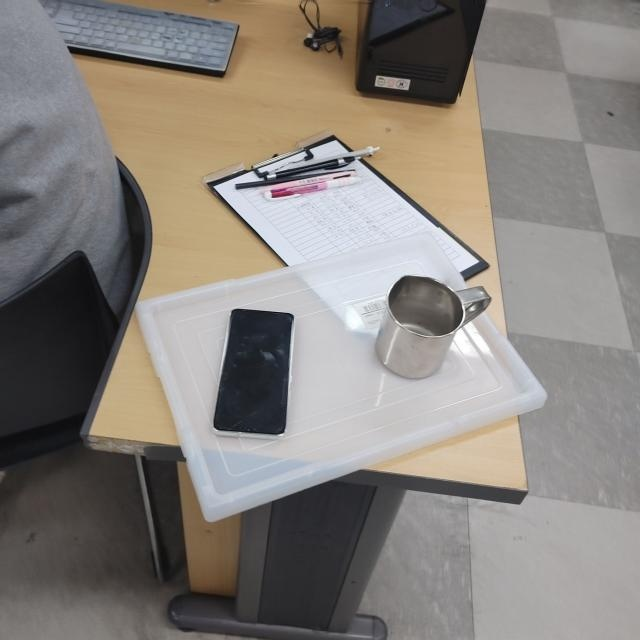cup: (372, 272, 493, 380)
phone: (209, 309, 295, 442)
